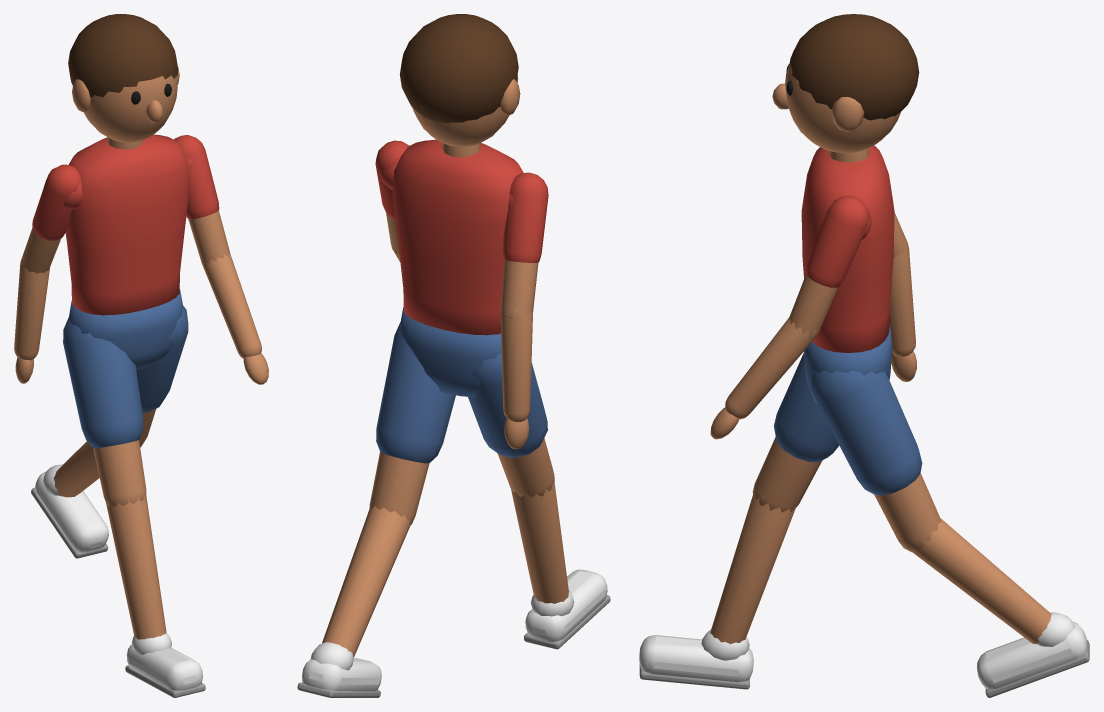
The model's file is kid_red.fbx.
3 views of the same model, side by side, from view 1: azimuth 30°, elevation 25°; view 2: azimuth 150°, elevation 25°; view 3: azimuth 270°, elevation 25° (orthographic). The views are drawn at different scales.
Visible parts, largest first — view 1: kid_red; view 2: kid_red; view 3: kid_red.
Boxes of the visible parts, x1,y1,x2,y2 form: kid_red: (14, 14, 268, 697); kid_red: (297, 14, 610, 697); kid_red: (639, 14, 1089, 697).
Size of the model in its own units: 0.3453 by 1.16 by 0.7006.
